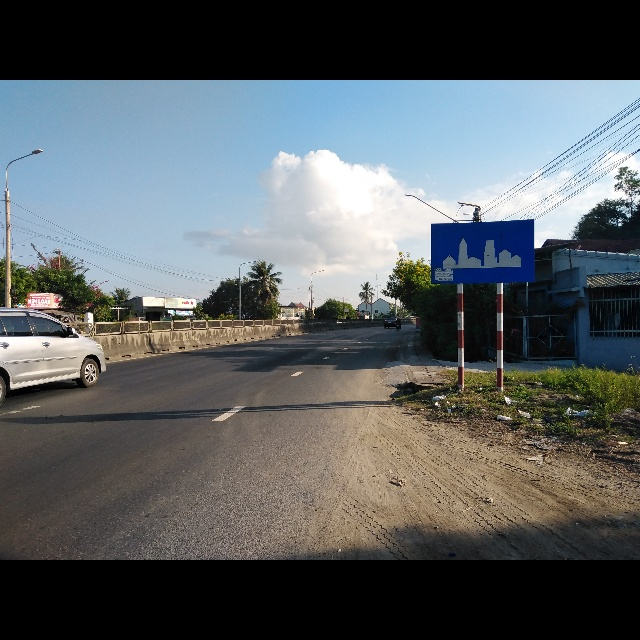Khu đông dân cư: (429, 219, 533, 281)
